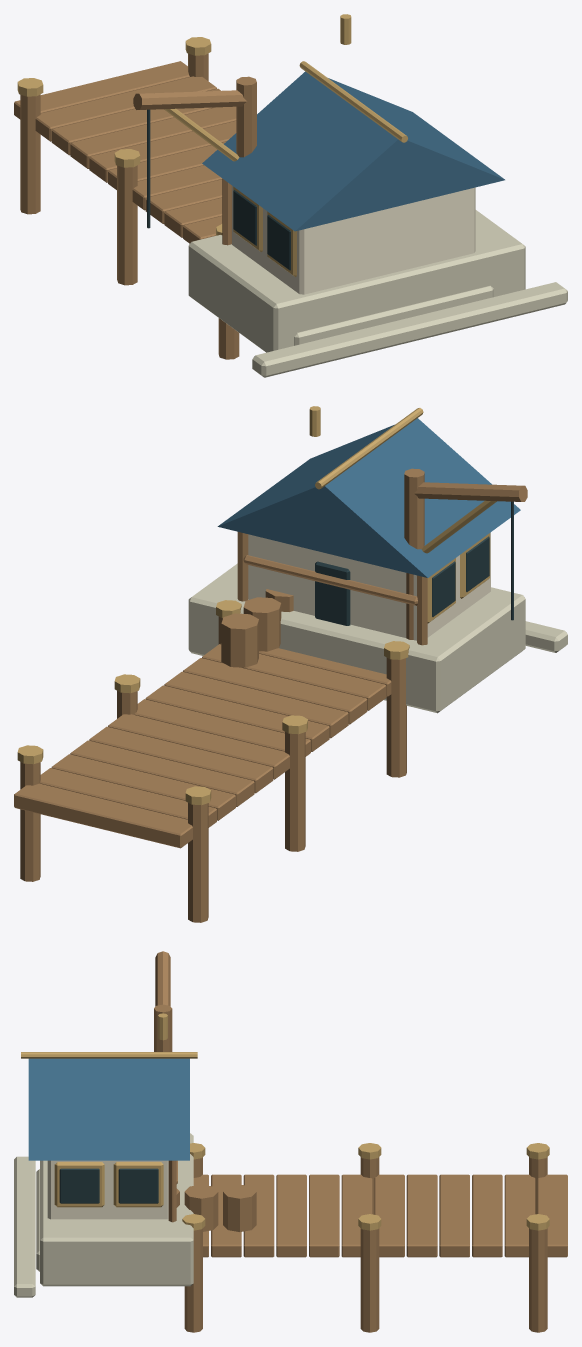
Rendered from level_09.glb.
3 views of the same model, one above another, from view 1: azimuth 30°, elevation 25°; view 2: azimuth 150°, elevation 25°; view 3: azimuth 270°, elevation 25° (orthographic). The views are drawn at different scales.
Visible parts, largest first — view 1: fishing_wharf — level 09; view 2: fishing_wharf — level 09; view 3: fishing_wharf — level 09.
Boxes of the visible parts, x1=… form: fishing_wharf — level 09: x1=14, y1=14, x2=567, y2=377; fishing_wharf — level 09: x1=14, y1=406, x2=567, y2=922; fishing_wharf — level 09: x1=14, y1=951, x2=567, y2=1332.
Size of the model in its own units: 4.53 by 4.08 by 7.21.
